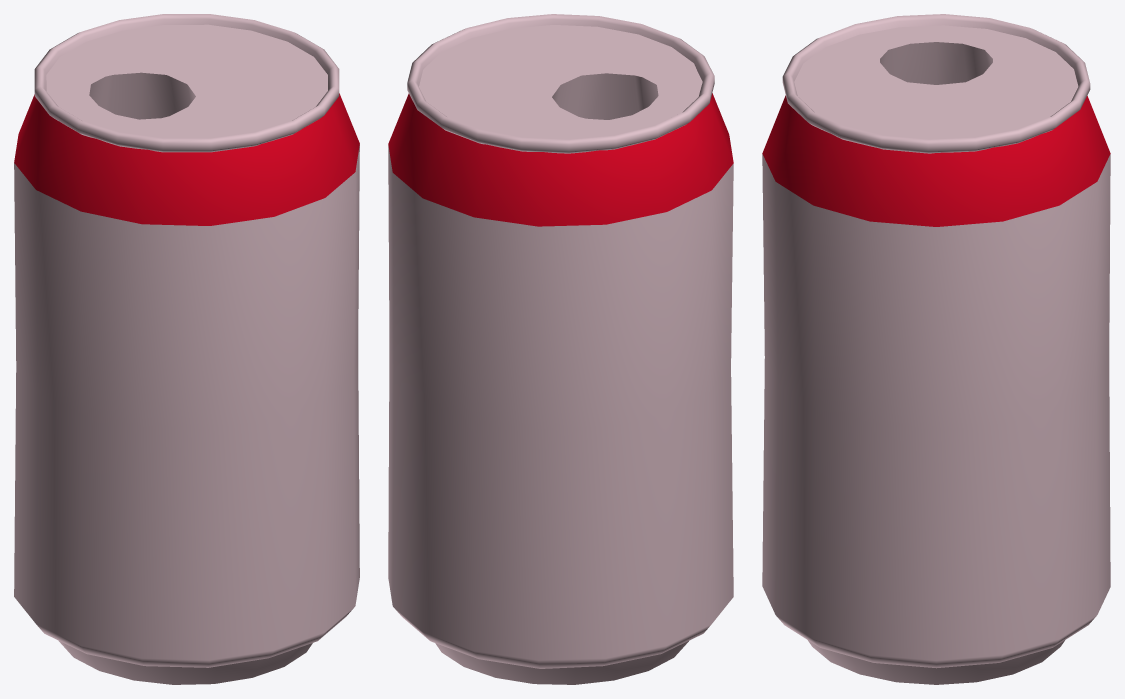
The model's file is can.fbx.
3 renders of one model, left to right at view 1: azimuth 30°, elevation 25°; view 2: azimuth 150°, elevation 25°; view 3: azimuth 270°, elevation 25°, orthographic.
Visible parts, largest first — view 1: BodyT; view 2: BodyT; view 3: BodyT.
Boxes of the visible parts, x1=… form: BodyT: x1=14, y1=14, x2=359, y2=684; BodyT: x1=388, y1=14, x2=733, y2=684; BodyT: x1=762, y1=14, x2=1110, y2=684.
Size of the model in its own units: 16.85 by 29.51 by 16.85.
